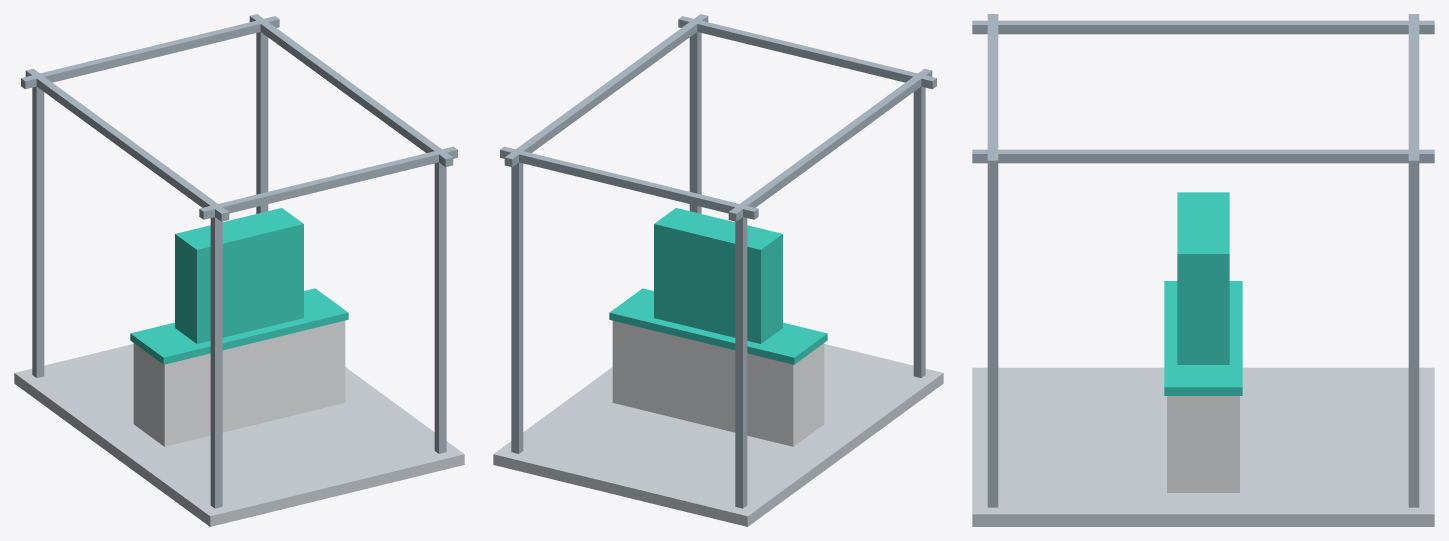
The picture shows the model from 3 angles, left to right: view 1: azimuth 30°, elevation 25°; view 2: azimuth 150°, elevation 25°; view 3: azimuth 270°, elevation 25°; orthographic projection. The views are drawn at different scales.
Parts seen in each view (by area): view 1: Exhibition Booth Concept; view 2: Exhibition Booth Concept; view 3: Exhibition Booth Concept.
Boxes of the visible parts, x1,y1,x2,y2 form: Exhibition Booth Concept: (14,14,464,526); Exhibition Booth Concept: (493,14,943,526); Exhibition Booth Concept: (972,14,1434,526).
Bounding box in the file's own units: 3 × 3.49 × 4.
